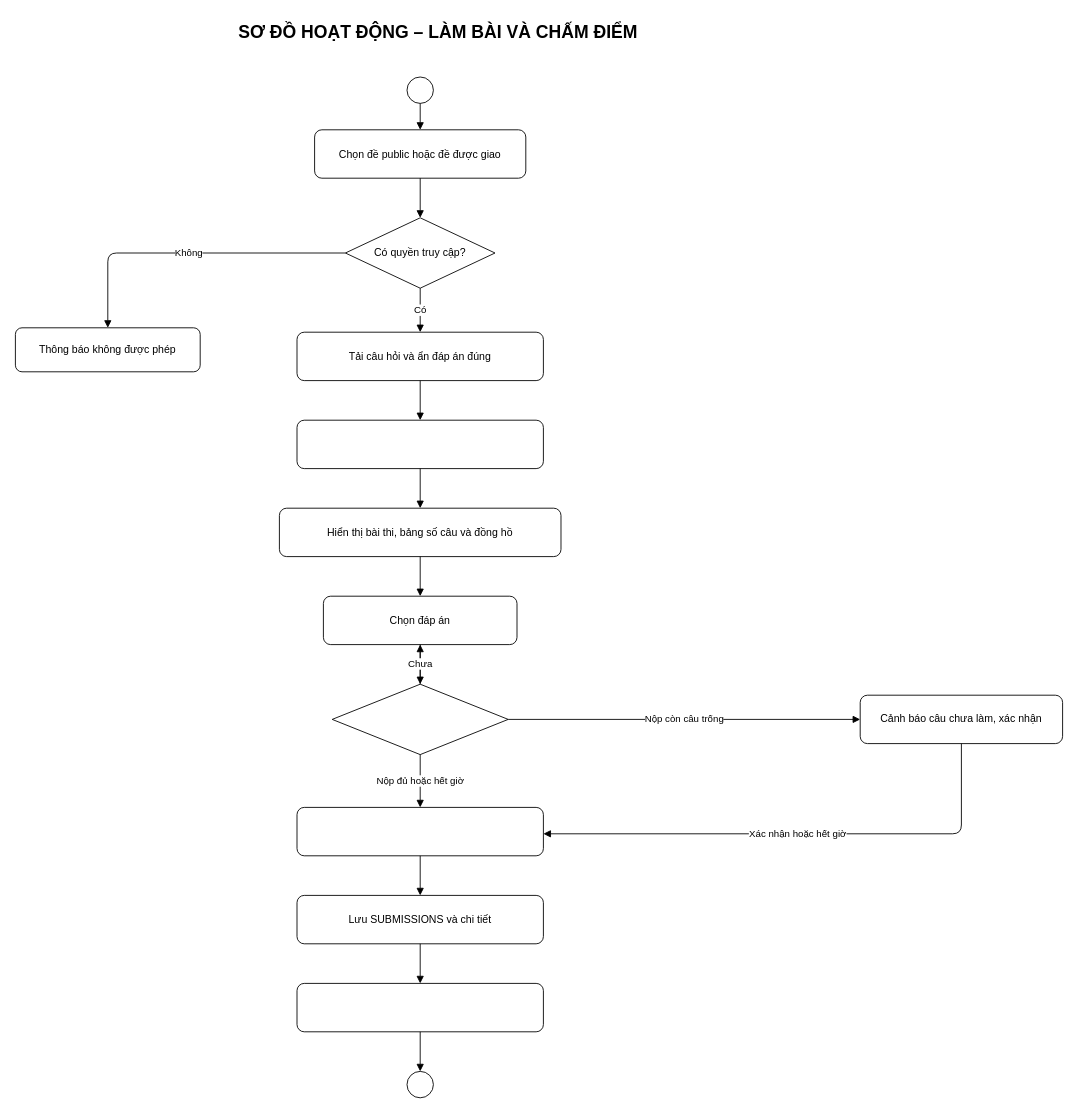
Image size: 1078x1113. Some labels were removed from this diagram. The shapes that lost their labels are listed below. From the top down, each one's box as (x1, y1, x2, y2) in pixels, then its label:
(296, 419, 543, 469): Xáo câu / đáp án theo cấu hình
(331, 683, 508, 755): Hết giờ hoặc bấm nộp?
(296, 807, 543, 856): Đối chiếu đáp án, tính điểm 0–10
(296, 983, 543, 1032): Hiển thị điểm, đậu/rớt, lịch sử
